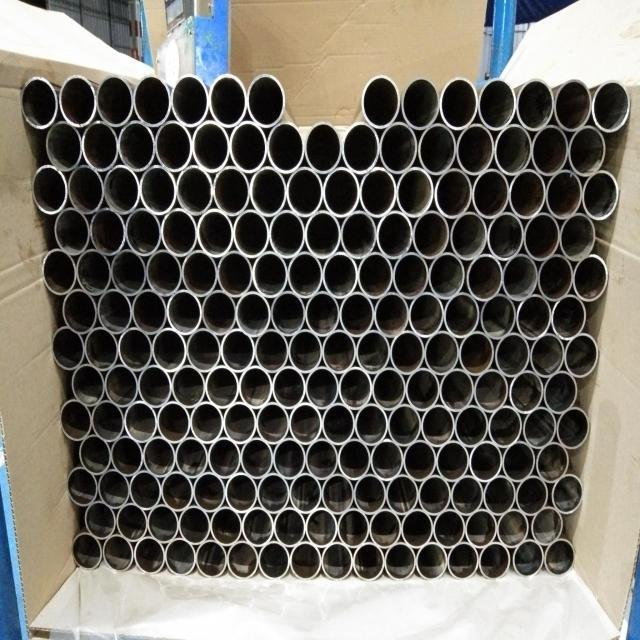pipe: (553, 76, 592, 132), (361, 74, 401, 128), (400, 76, 440, 129), (247, 73, 286, 127), (209, 73, 248, 127), (133, 73, 172, 127), (592, 78, 631, 132), (477, 76, 516, 130), (171, 73, 210, 127), (516, 76, 554, 131), (192, 119, 231, 172), (58, 74, 97, 127), (439, 76, 478, 129), (20, 75, 59, 128), (531, 123, 569, 177), (379, 120, 417, 174), (96, 73, 134, 127), (155, 119, 193, 172), (118, 119, 156, 172), (230, 120, 268, 173), (305, 120, 343, 173), (342, 120, 380, 173), (456, 122, 494, 175), (418, 122, 456, 175), (45, 119, 83, 171), (267, 120, 305, 172), (494, 123, 531, 176), (396, 166, 434, 217), (472, 168, 510, 219), (567, 125, 605, 176), (434, 167, 472, 218), (82, 119, 119, 171), (176, 165, 214, 215), (450, 210, 488, 260), (360, 166, 397, 217), (323, 166, 360, 217), (213, 165, 250, 216), (250, 165, 287, 216), (286, 166, 323, 217), (509, 168, 546, 219), (545, 169, 582, 220), (412, 210, 450, 259), (140, 164, 177, 214), (104, 164, 141, 214), (304, 209, 341, 259), (376, 209, 413, 259), (523, 211, 560, 261), (582, 169, 618, 220), (340, 210, 377, 259), (487, 211, 524, 260), (161, 207, 197, 257), (198, 208, 234, 258), (126, 206, 162, 256), (559, 211, 595, 261), (269, 209, 305, 259), (90, 206, 126, 256), (68, 164, 104, 214), (32, 164, 68, 214), (465, 253, 503, 300), (181, 249, 218, 297), (217, 250, 254, 298), (233, 209, 269, 258), (252, 250, 288, 299), (502, 252, 538, 301), (537, 253, 573, 302), (55, 206, 91, 255), (572, 253, 608, 302), (428, 252, 465, 299), (322, 251, 358, 299), (358, 251, 394, 299), (287, 250, 323, 298), (146, 248, 182, 296), (393, 252, 429, 299), (443, 292, 479, 339), (132, 288, 168, 335), (551, 293, 587, 340), (516, 293, 552, 340), (111, 248, 147, 295), (77, 248, 112, 296), (42, 247, 77, 295), (271, 290, 307, 336), (374, 291, 410, 337), (339, 291, 375, 337), (62, 287, 98, 333), (409, 291, 444, 338), (202, 289, 237, 336), (167, 288, 202, 335), (458, 331, 494, 376), (494, 332, 530, 377), (305, 290, 340, 336), (288, 327, 323, 373), (236, 290, 271, 336), (98, 288, 133, 334), (480, 293, 515, 339), (390, 330, 425, 375), (254, 328, 289, 373), (187, 327, 222, 372), (152, 327, 187, 372), (84, 326, 119, 371), (530, 332, 565, 377), (543, 369, 578, 414), (564, 332, 598, 378), (221, 328, 256, 372), (405, 367, 440, 411), (338, 366, 373, 410), (439, 368, 474, 412), (424, 330, 459, 374), (171, 364, 206, 408), (138, 364, 173, 408), (473, 368, 508, 412), (508, 369, 543, 413), (322, 328, 356, 373), (356, 329, 390, 374), (119, 326, 153, 371), (52, 325, 85, 371), (305, 366, 340, 409), (454, 404, 489, 447), (488, 405, 523, 448), (239, 365, 273, 409), (272, 365, 306, 409), (205, 364, 239, 408), (556, 406, 590, 450), (522, 406, 557, 448), (72, 363, 106, 406), (372, 367, 406, 410), (190, 400, 224, 443), (157, 400, 191, 443), (256, 401, 290, 444), (289, 402, 323, 445), (272, 436, 306, 479), (124, 399, 158, 442), (436, 439, 470, 482), (105, 363, 138, 407), (421, 404, 455, 446), (502, 440, 536, 482), (355, 402, 388, 445), (223, 401, 256, 444), (305, 437, 338, 480), (322, 402, 355, 445), (388, 403, 421, 446), (92, 399, 125, 442), (240, 436, 273, 479), (338, 437, 371, 480), (208, 435, 241, 478), (403, 439, 436, 482), (353, 472, 386, 515), (290, 471, 323, 514), (536, 441, 570, 482), (516, 475, 550, 516), (370, 438, 403, 480), (469, 440, 502, 482), (175, 436, 208, 478), (143, 435, 176, 477), (225, 471, 258, 513), (322, 473, 355, 515), (385, 473, 418, 515), (193, 470, 226, 512), (60, 398, 92, 441), (161, 470, 194, 511), (418, 474, 451, 515), (450, 474, 483, 515), (110, 435, 143, 476), (433, 508, 466, 549), (551, 473, 584, 514), (257, 471, 289, 513), (79, 434, 112, 474), (483, 475, 516, 515), (305, 507, 338, 547), (464, 508, 497, 548), (478, 541, 511, 581), (338, 507, 370, 548), (258, 540, 290, 581), (401, 507, 433, 548), (274, 506, 306, 547), (321, 540, 353, 581), (210, 505, 242, 546), (369, 507, 401, 548), (242, 506, 274, 547), (497, 508, 530, 547), (130, 470, 162, 510), (98, 468, 130, 508), (179, 504, 211, 544), (544, 537, 576, 577), (290, 540, 321, 581), (196, 538, 227, 579), (353, 541, 384, 582), (116, 502, 148, 541), (512, 539, 544, 578), (447, 541, 479, 580), (134, 535, 166, 574), (227, 539, 258, 579), (385, 541, 416, 581), (416, 541, 447, 581), (530, 507, 562, 545), (67, 466, 98, 505), (85, 500, 116, 539), (148, 503, 179, 542), (103, 533, 134, 572), (72, 531, 103, 570), (166, 536, 196, 576)
